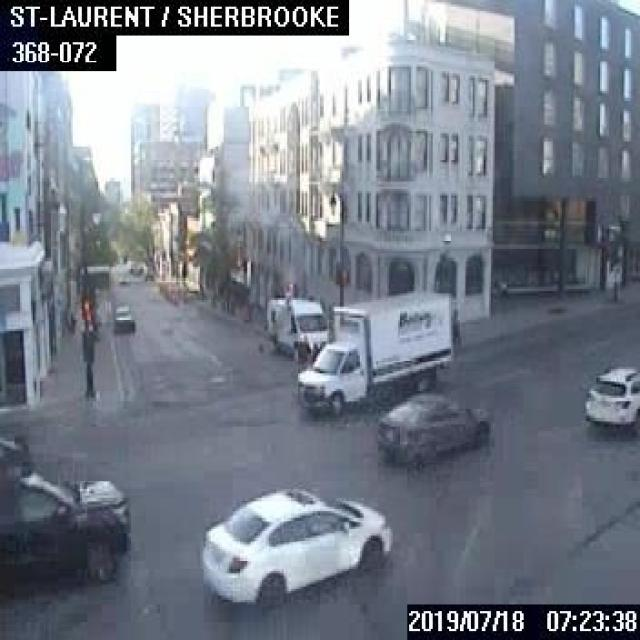pedestrian: (293, 334, 310, 371)
vehicle: (194, 482, 394, 609), (0, 424, 131, 586), (296, 292, 451, 416), (373, 389, 489, 464), (265, 295, 329, 356), (580, 362, 638, 427), (113, 303, 132, 331)
